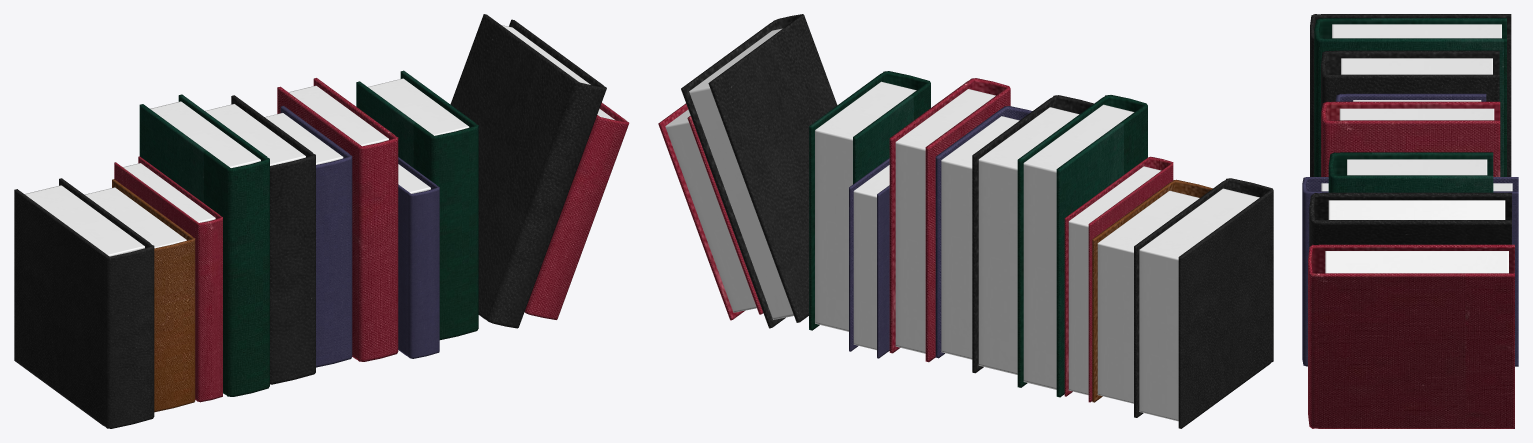
Rendered from Books_001.fbx.
3 views of the same model, side by side, from view 1: azimuth 30°, elevation 25°; view 2: azimuth 150°, elevation 25°; view 3: azimuth 270°, elevation 25° (orthographic). The views are drawn at different scales.
Parts seen in each view (by area): view 1: book.028, book.026, book.020, book.025, book.023, book.021, book.017, book.022, book.019, book.024, book.027; view 2: book.028, book.026, book.020, book.025, book.023, book.021, book.017, book.022, book.019, book.024, book.027; view 3: book.027, book.026, book.023, book.020, book.021, book.025, book.024, book.028, book.022.
Part boxes in pixels (<box>): book.028: <box>14,178,154,428</box>; book.026: <box>450,14,606,328</box>; book.020: <box>139,94,269,396</box>; book.025: <box>356,70,478,339</box>; book.023: <box>277,78,398,361</box>; book.021: <box>205,95,315,384</box>; book.017: <box>85,179,195,412</box>; book.022: <box>265,105,352,367</box>; book.019: <box>114,156,222,402</box>; book.024: <box>398,157,439,358</box>; book.027: <box>524,102,629,319</box>; book.028: <box>1134,178,1273,428</box>; book.026: <box>681,14,837,328</box>; book.020: <box>1017,95,1147,397</box>; book.025: <box>809,71,930,331</box>; book.023: <box>889,78,1010,362</box>; book.021: <box>972,95,1093,374</box>; book.017: <box>1092,179,1212,403</box>; book.022: <box>935,106,1032,359</box>; book.019: <box>1064,156,1173,402</box>; book.024: <box>849,158,889,358</box>; book.027: <box>658,103,763,320</box>; book.027: <box>1308,244,1514,428</box>; book.026: <box>1309,192,1511,246</box>; book.023: <box>1321,101,1500,176</box>; book.020: <box>1314,18,1506,176</box>; book.021: <box>1321,50,1499,176</box>; book.025: <box>1328,152,1493,192</box>; book.024: <box>1302,177,1518,366</box>; book.028: <box>1310,14,1511,176</box>; book.022: <box>1335,93,1486,101</box>.
Size of the model in its own units: 89.07 by 37.87 by 30.13.
